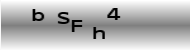4: (106, 7, 122, 21)
F: (71, 19, 83, 33)
S: (55, 11, 71, 25)
b: (31, 7, 46, 23)
h: (91, 25, 106, 41)
